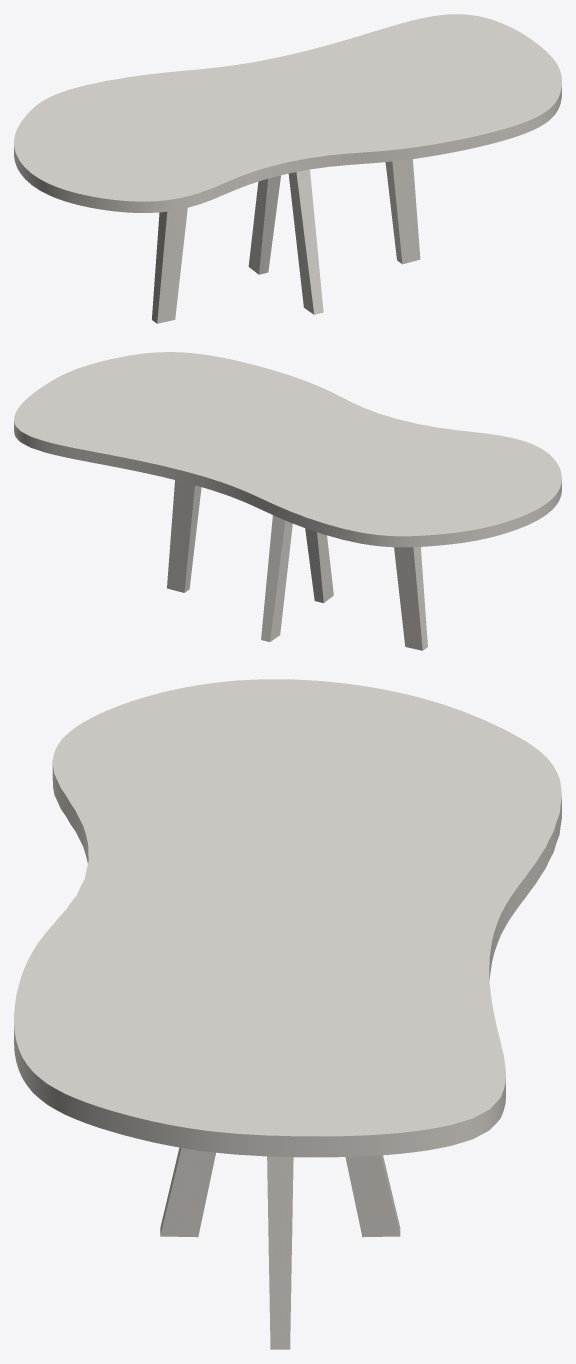
Rendered from pearlwhite_wave_standard_searwalnut.glb.
3 renders of one model, top to bottom at view 1: azimuth 30°, elevation 25°; view 2: azimuth 150°, elevation 25°; view 3: azimuth 270°, elevation 25°, orthographic. The views are drawn at different scales.
Parts seen in each view (by area): view 1: standard_wave, searwalnut; view 2: standard_wave, searwalnut; view 3: standard_wave, searwalnut.
Part boxes in pixels (left/top/right/bottom): standard_wave: left=14, top=14, right=561, bottom=212; searwalnut: left=152, top=159, right=420, bottom=323; standard_wave: left=14, top=352, right=561, bottom=547; searwalnut: left=167, top=480, right=427, bottom=650; standard_wave: left=14, top=679, right=561, bottom=1157; searwalnut: left=160, top=1147, right=400, bottom=1349.
Bounding box in the file's own units: 7.5 × 2.5 × 3.8.
Materials: 1 (1 with a texture image).
